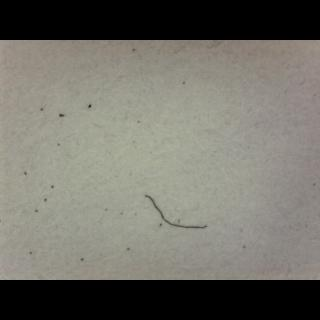Microplastic: (130, 180, 228, 240)
